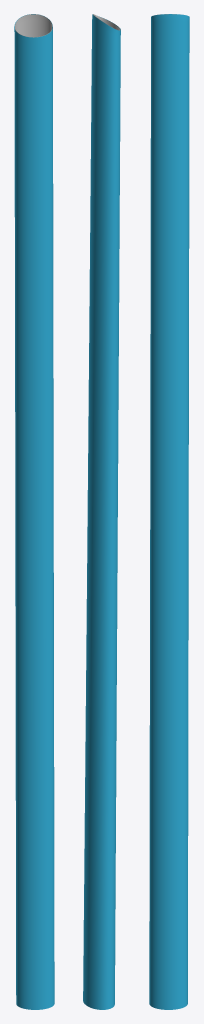
File: gutter_straight_broken_water_03.fbx
The picture shows the model from 3 angles, left to right: view 1: azimuth 90°, elevation 25°; view 2: azimuth 210°, elevation 25°; view 3: azimuth 270°, elevation 25°; orthographic projection.
Parts seen in each view (by area): view 1: Circle.007; view 2: Circle.007; view 3: Circle.007.
Part boxes in pixels (x1=…): Circle.007: x1=14, y1=14, x2=54, y2=1009; Circle.007: x1=83, y1=14, x2=120, y2=1009; Circle.007: x1=149, y1=14, x2=189, y2=1009.
Size of the model in its own units: 0.434 by 13.6 by 0.5006.
